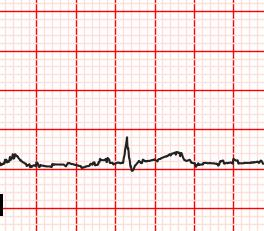Poor R Progression: (118, 134, 133, 163)
